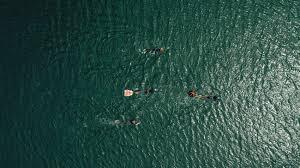Person: (120, 83, 162, 100), (186, 90, 222, 101), (137, 46, 168, 56), (107, 118, 144, 126)
